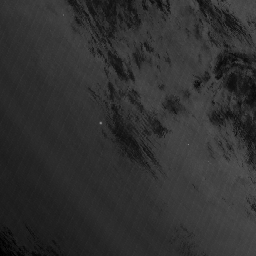Target: (97, 119, 104, 127)
